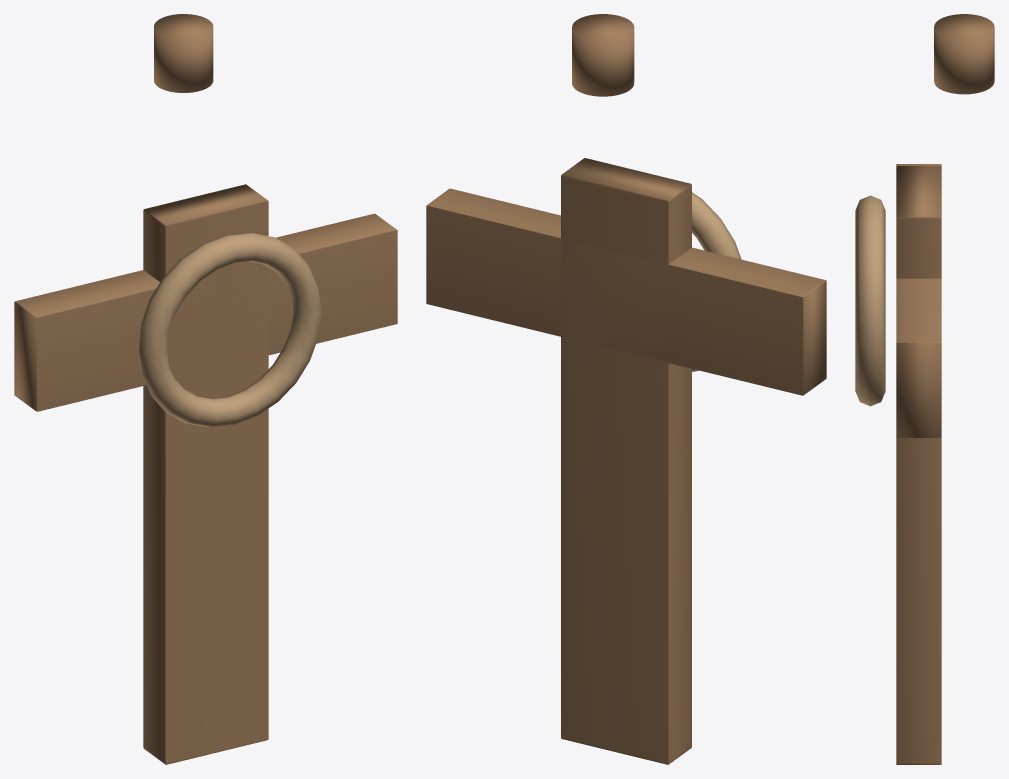
The model's file is cross.glb.
3 views of the same model, side by side, from view 1: azimuth 30°, elevation 25°; view 2: azimuth 150°, elevation 25°; view 3: azimuth 270°, elevation 25° (orthographic). The views are drawn at different scales.
Parts seen in each view (by area): view 1: CrossVertical, CrossHorizontal, CrossCircle, CrossMount; view 2: CrossVertical, CrossHorizontal, CrossMount, CrossCircle; view 3: CrossVertical, CrossHorizontal, CrossCircle, CrossMount.
Part boxes in pixels (x1,y1,x2,y2): CrossVertical: [143, 184, 268, 764]; CrossHorizontal: [14, 213, 397, 411]; CrossCircle: [138, 233, 321, 426]; CrossMount: [154, 14, 213, 92]; CrossVertical: [561, 158, 691, 764]; CrossHorizontal: [426, 188, 826, 395]; CrossMount: [572, 14, 634, 96]; CrossCircle: [692, 192, 741, 371]; CrossVertical: [896, 166, 941, 764]; CrossHorizontal: [896, 164, 941, 437]; CrossCircle: [855, 195, 885, 406]; CrossMount: [934, 14, 994, 94].
Bounding box in the file's own units: 0.14 × 0.26 × 0.046.
